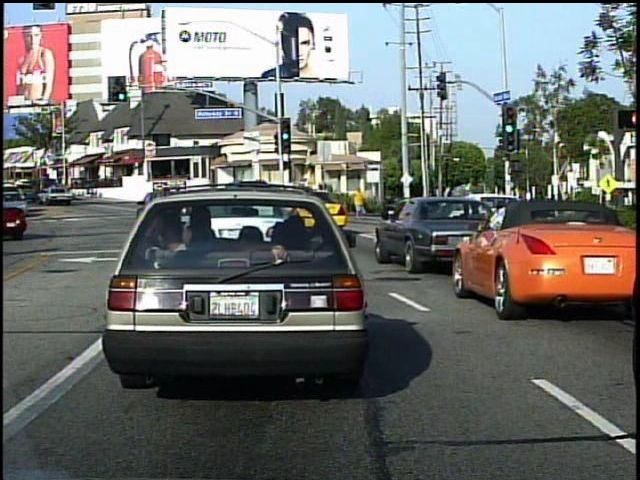person: (428, 185, 452, 231), (352, 184, 369, 222)
